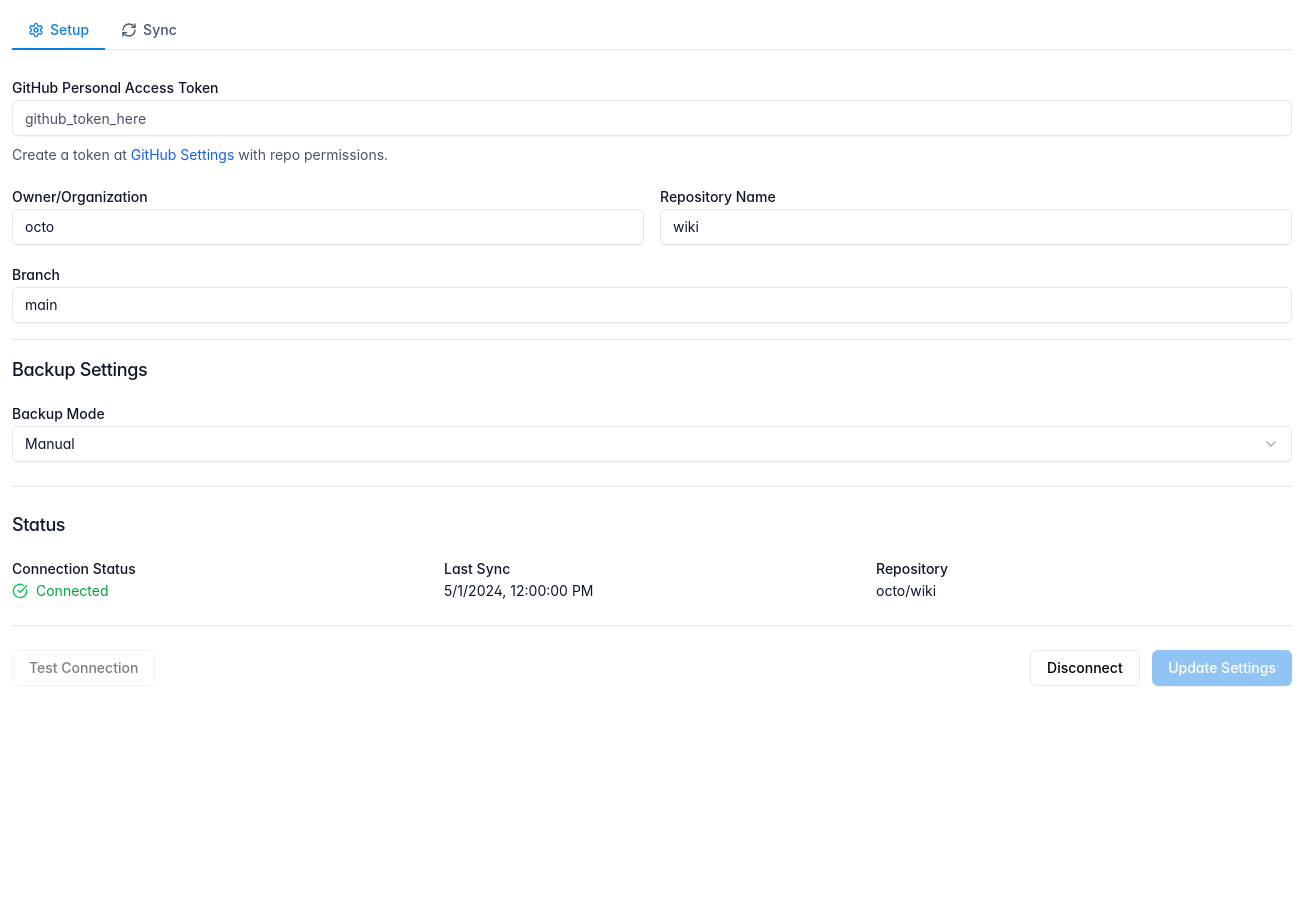
Test case: GitHubSettingsSection › when connected › logs when updating fails
Step 1. Type "dev" into the field with test id "github-branch-input" → (652, 305), box [12,287,1292,323]
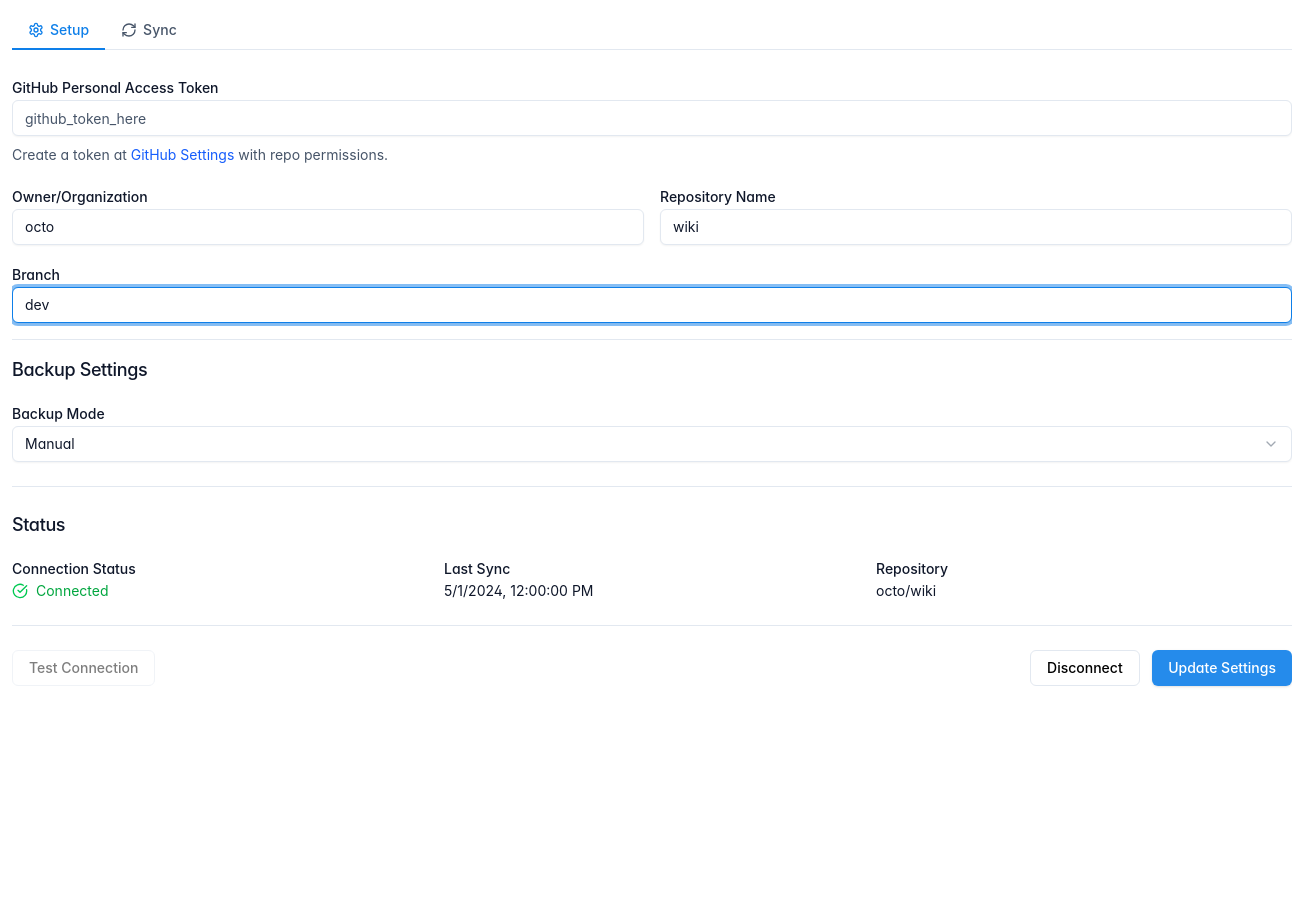
Step 2. Click the button with test id "github-setup-button" → (1222, 668), box [1152,650,1292,686]
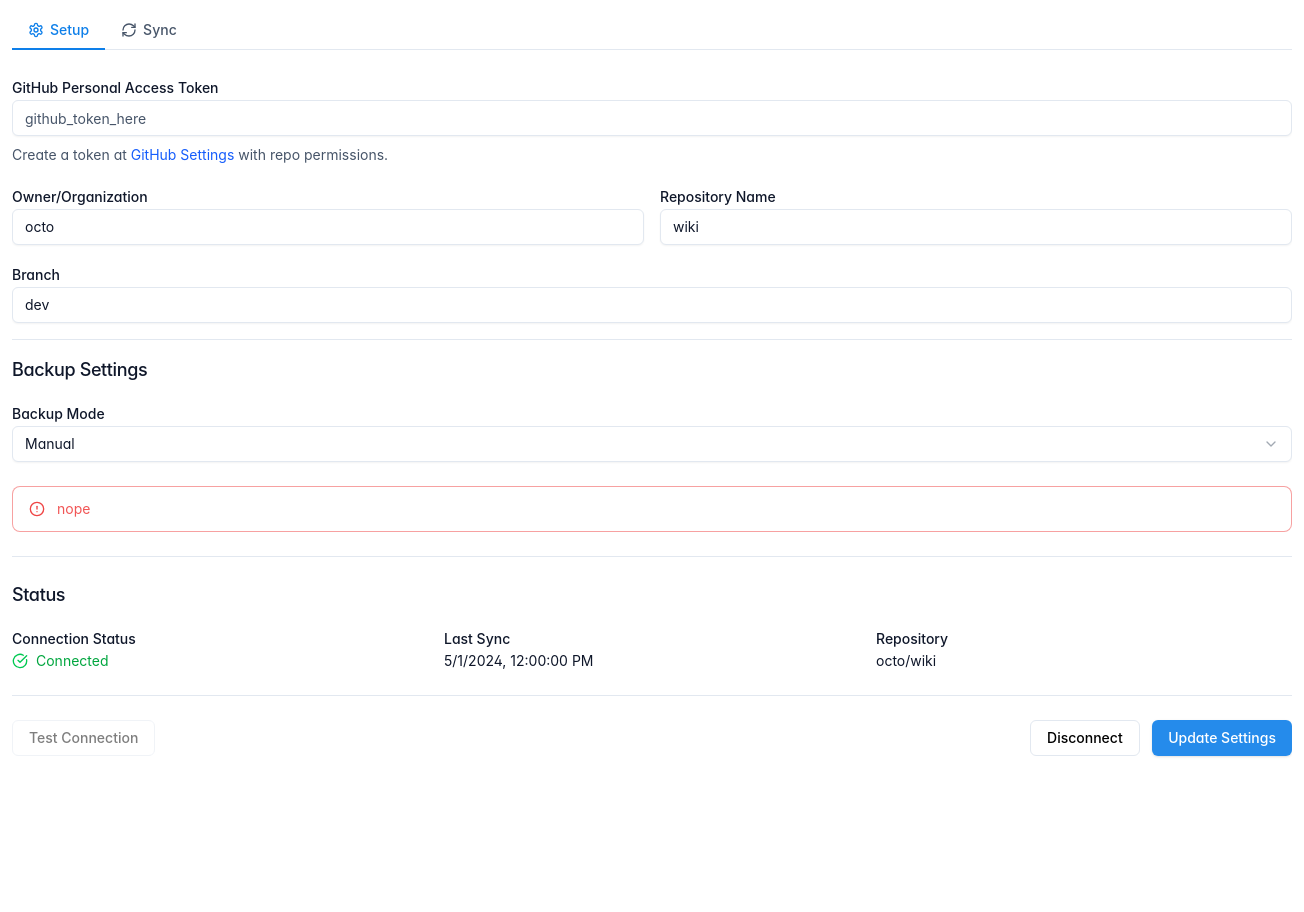
Expected: the message reads "nope", [57,500,90,517]
